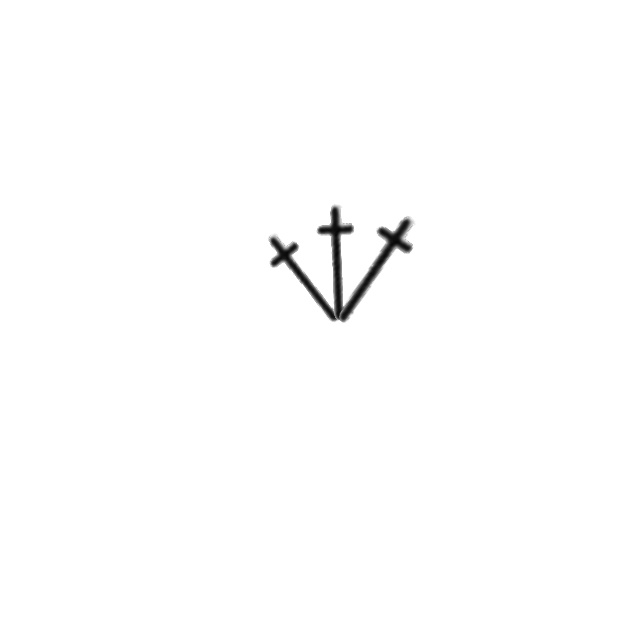enseble_chain: (307, 196, 445, 345), (246, 214, 364, 342), (303, 203, 373, 323)
